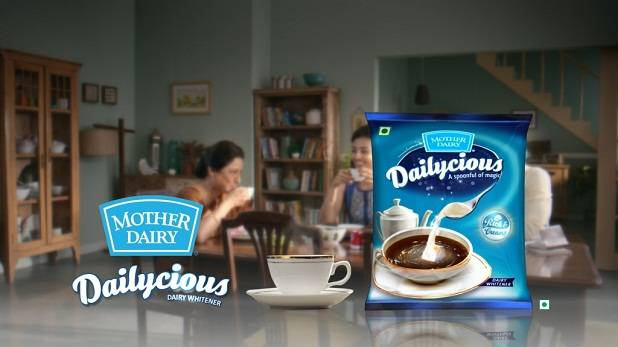Mother_Dairy: (91, 189, 204, 258), (415, 122, 480, 157)
